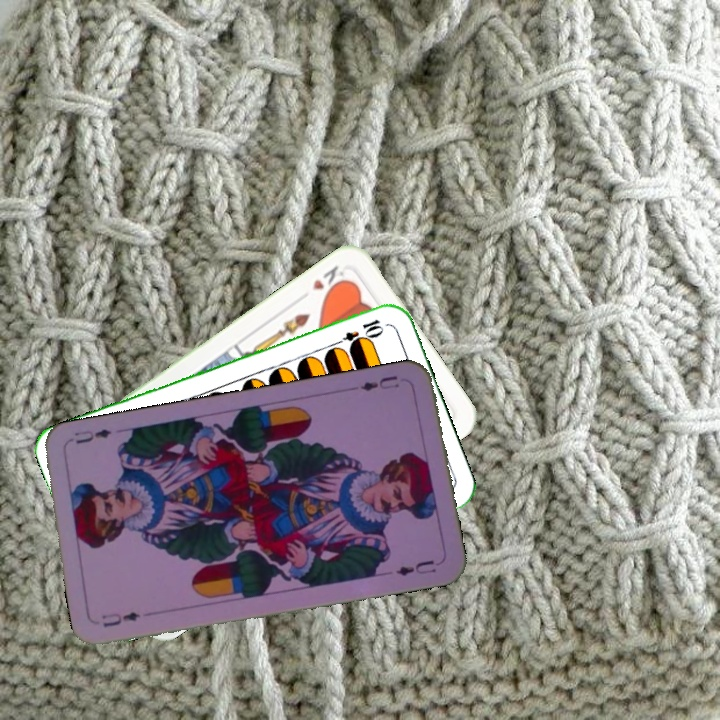E10: (330, 315, 387, 353)
EU: (356, 371, 402, 394), (97, 608, 143, 630)
HK: (308, 261, 350, 298)
